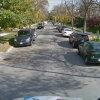Car: (11, 25, 43, 55)
